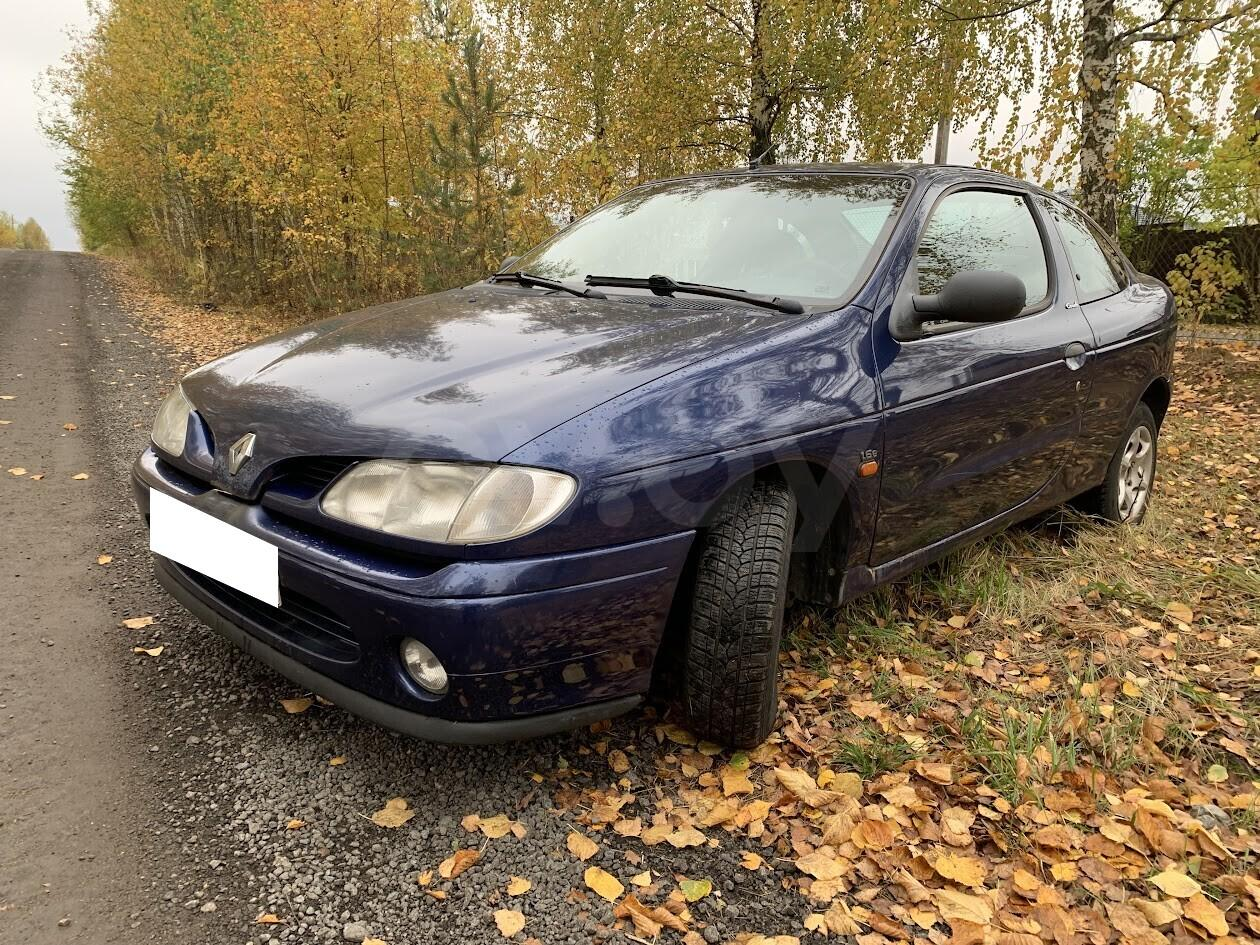Megane_1995-1999: (133, 151, 1205, 775)
